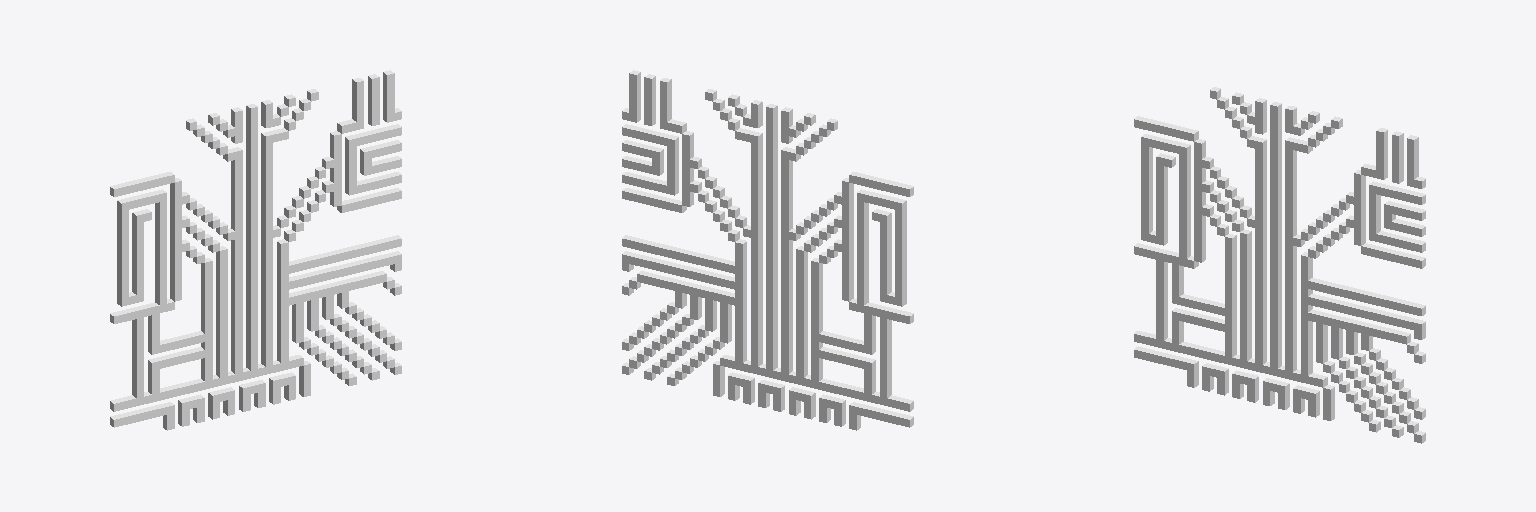
File: FRONT3.obj
The picture shows the model from 3 angles: view 1: azimuth 30°, elevation 25°; view 2: azimuth 150°, elevation 25°; view 3: azimuth 330°, elevation 25°; orthographic projection.
Visible parts, largest first — view 1: BlueWall3B-0; view 2: BlueWall3B-0; view 3: BlueWall3B-0.
Boxes of the visible parts, x1,y1,x2,y2 form: BlueWall3B-0: [110, 70, 401, 430]; BlueWall3B-0: [622, 70, 913, 430]; BlueWall3B-0: [1134, 87, 1425, 443].
Size of the model in its own units: 3.8 by 3.8 by 0.1.